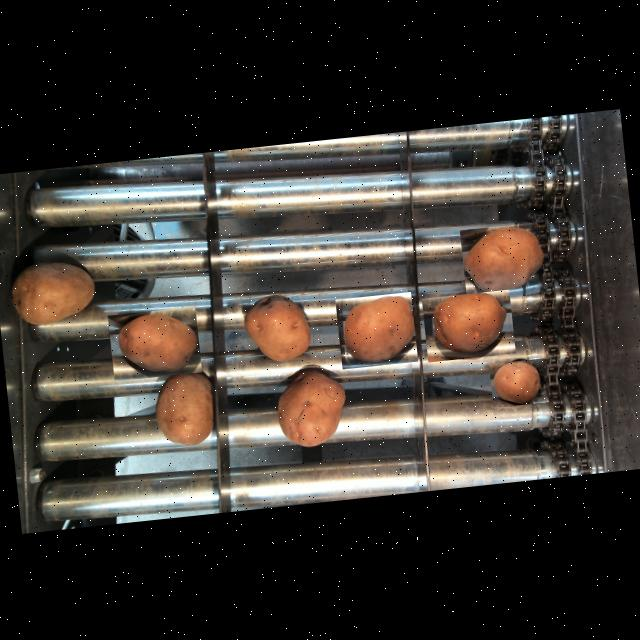Potato: (268, 362, 354, 452), (458, 220, 552, 301), (106, 305, 200, 380), (6, 256, 99, 330), (420, 288, 514, 361), (334, 291, 417, 368), (149, 362, 219, 449), (238, 290, 314, 367), (488, 356, 548, 406)
